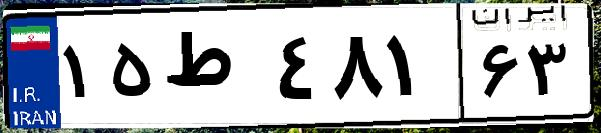1: (385, 28, 445, 110), (57, 26, 110, 100)
3: (525, 38, 570, 115)
4: (270, 28, 330, 110)
5: (110, 28, 158, 98)
6: (475, 38, 525, 113)
8: (330, 28, 385, 110)
ط: (158, 20, 270, 120)
